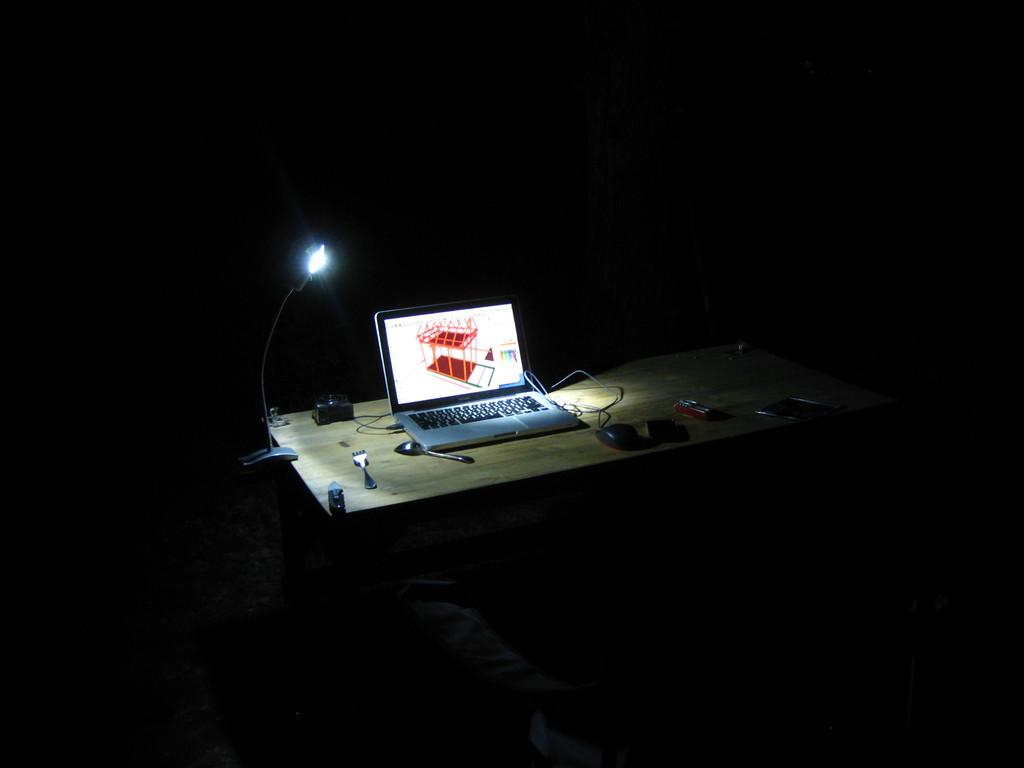Laptop: (363, 283, 580, 458)
